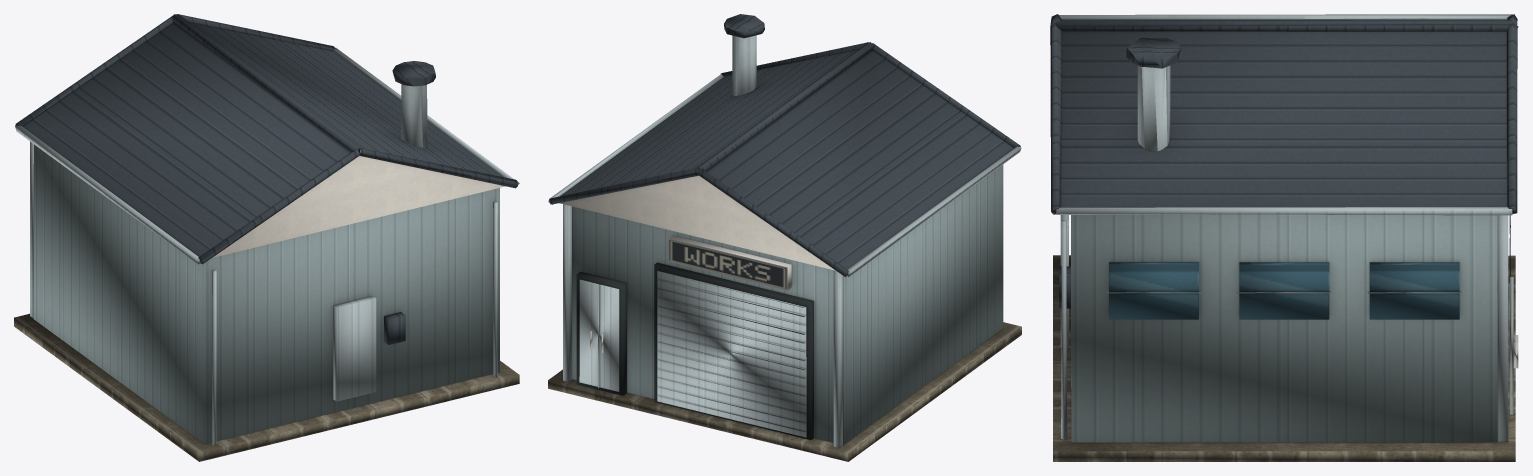
The model's file is factory_001.obj.
3 views of the same model, side by side, from view 1: azimuth 30°, elevation 25°; view 2: azimuth 150°, elevation 25°; view 3: azimuth 270°, elevation 25° (orthographic). The views are drawn at different scales.
Visible parts, largest first — view 1: factory_001; view 2: factory_001; view 3: factory_001.
Boxes of the visible parts, x1=… form: factory_001: x1=14, y1=14, x2=519, y2=461; factory_001: x1=548, y1=14, x2=1021, y2=461; factory_001: x1=1050, y1=14, x2=1518, y2=461.
Size of the model in its own units: 6.43 by 5.72 by 6.47.
Materials: 1 (1 with a texture image).
